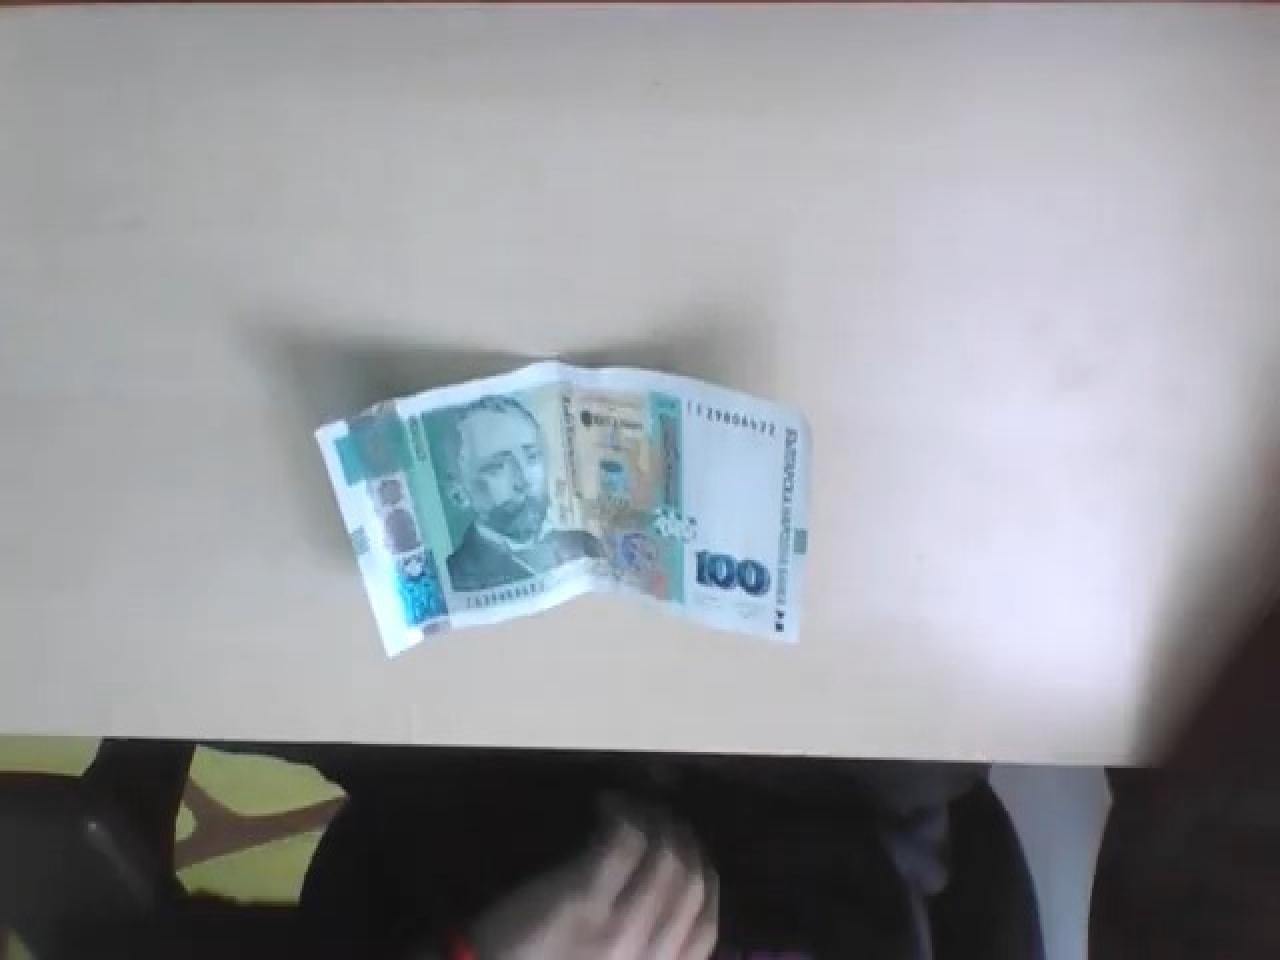100leva: (314, 360, 814, 662), (694, 550, 774, 600)
